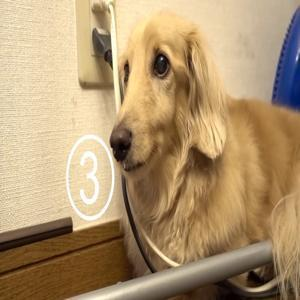nasal_discharge: (112, 148, 130, 170)
